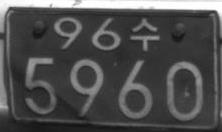0: (165, 60, 204, 122)
5: (24, 56, 57, 114)
6: (116, 59, 153, 121), (91, 17, 121, 51)
9: (69, 58, 104, 117), (53, 16, 83, 50)
수: (131, 17, 159, 52)
